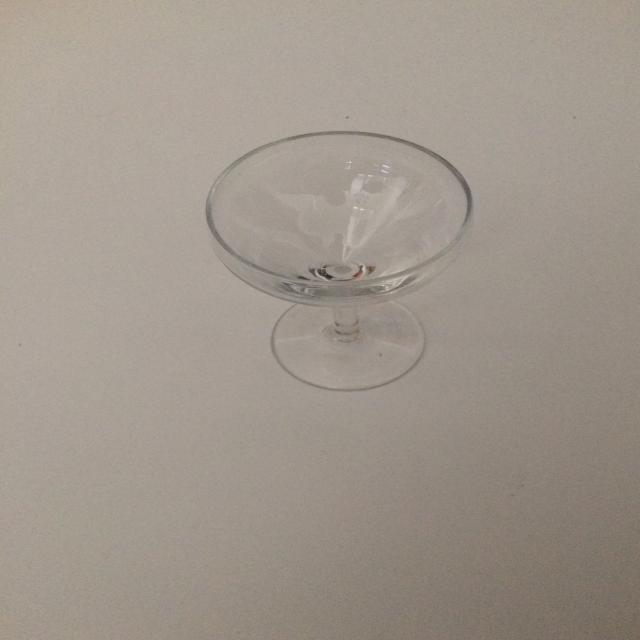glass: (205, 130, 474, 391)
